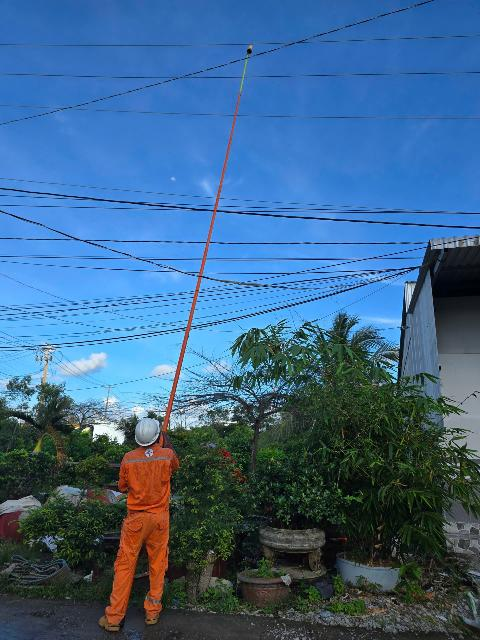helmet: (131, 415, 164, 449)
shoes: (96, 609, 125, 635), (138, 604, 163, 625)
